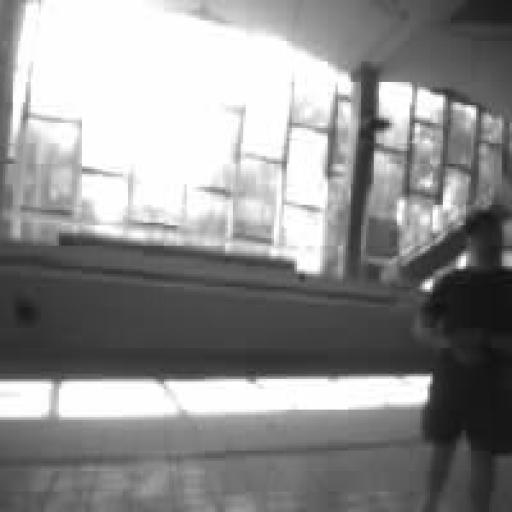human: (415, 210, 509, 511)
